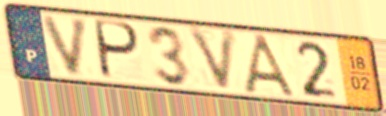2: (294, 39, 340, 102)
3: (145, 24, 192, 88)
A: (240, 32, 302, 101)
P: (94, 18, 143, 83)
V: (184, 24, 241, 96), (39, 14, 92, 79)
